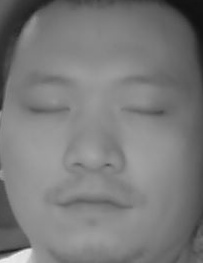blink: (122, 102, 166, 122), (29, 101, 71, 121)
mouth: (54, 188, 132, 222)
